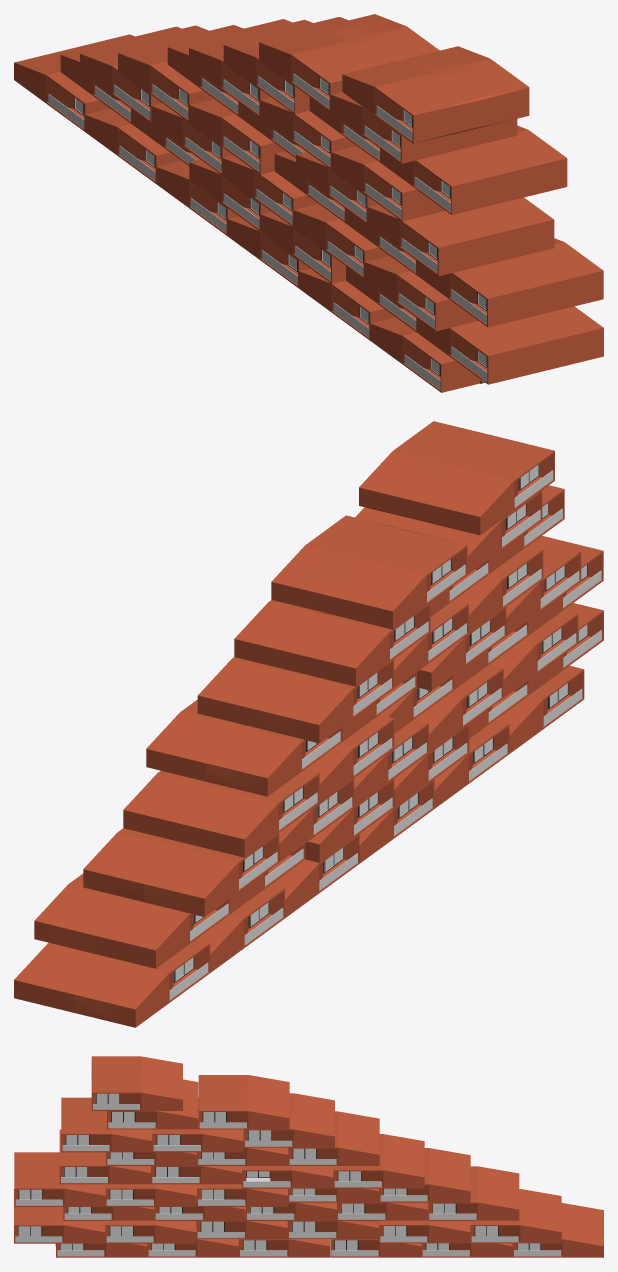
The model's file is resort_miami.glb.
3 renders of one model, top to bottom at view 1: azimuth 30°, elevation 25°; view 2: azimuth 150°, elevation 25°; view 3: azimuth 270°, elevation 25°, orthographic. The views are drawn at different scales.
Parts seen in each view (by area): view 1: ResortMiami; view 2: ResortMiami; view 3: ResortMiami.
Part boxes in pixels (bbox=[...]): ResortMiami: bbox=[14, 14, 603, 392]; ResortMiami: bbox=[14, 421, 603, 1027]; ResortMiami: bbox=[14, 1056, 603, 1257].
Size of the model in its own units: 4.5 by 8.5 by 27.54.
